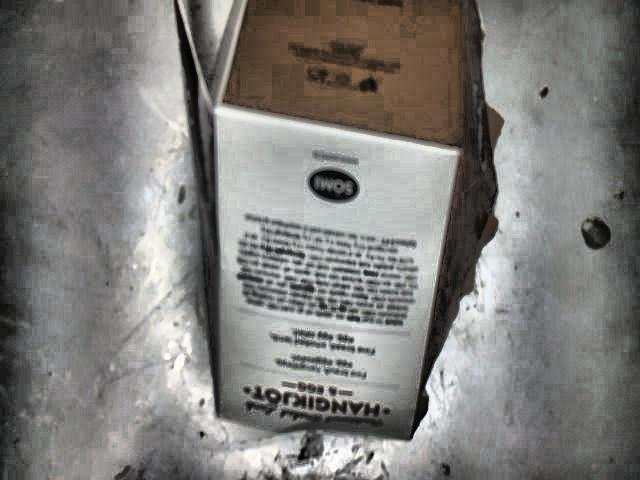Paper: (175, 0, 506, 439)
